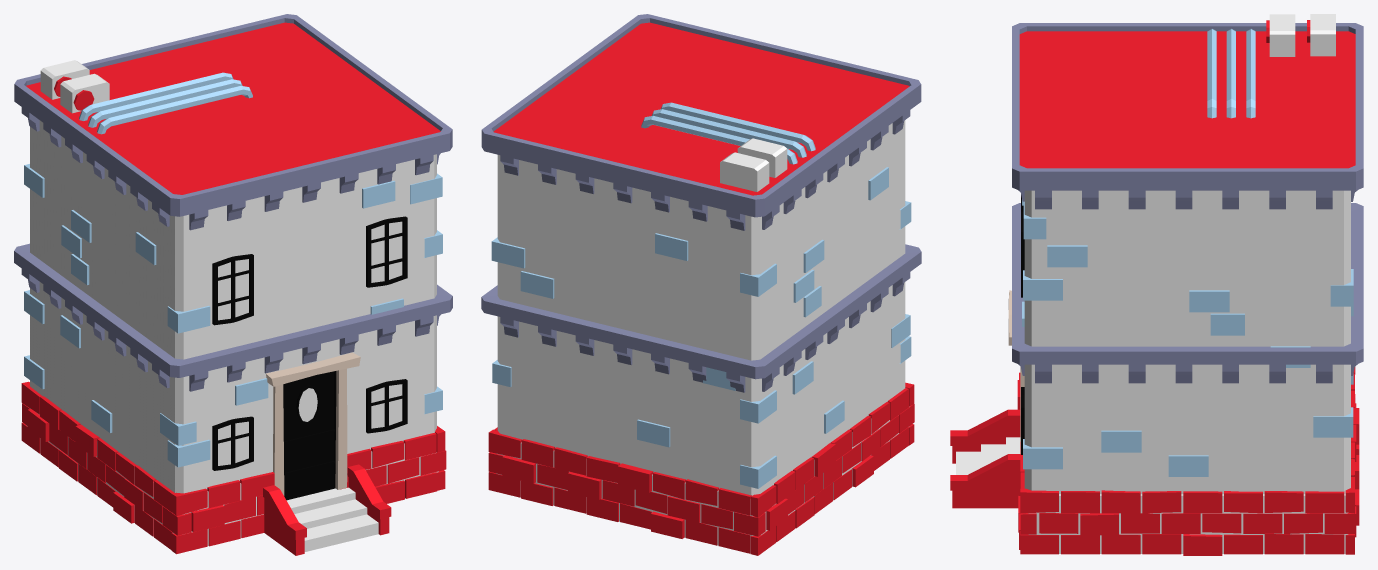
Rendered from building_quaternius_2Story_Stairs.glb.
3 views of the same model, side by side, from view 1: azimuth 30°, elevation 25°; view 2: azimuth 150°, elevation 25°; view 3: azimuth 270°, elevation 25° (orthographic). The views are drawn at different scales.
Size of the model in its own units: 2.16 by 2.75 by 2.53.
1 material, 1 textured.
